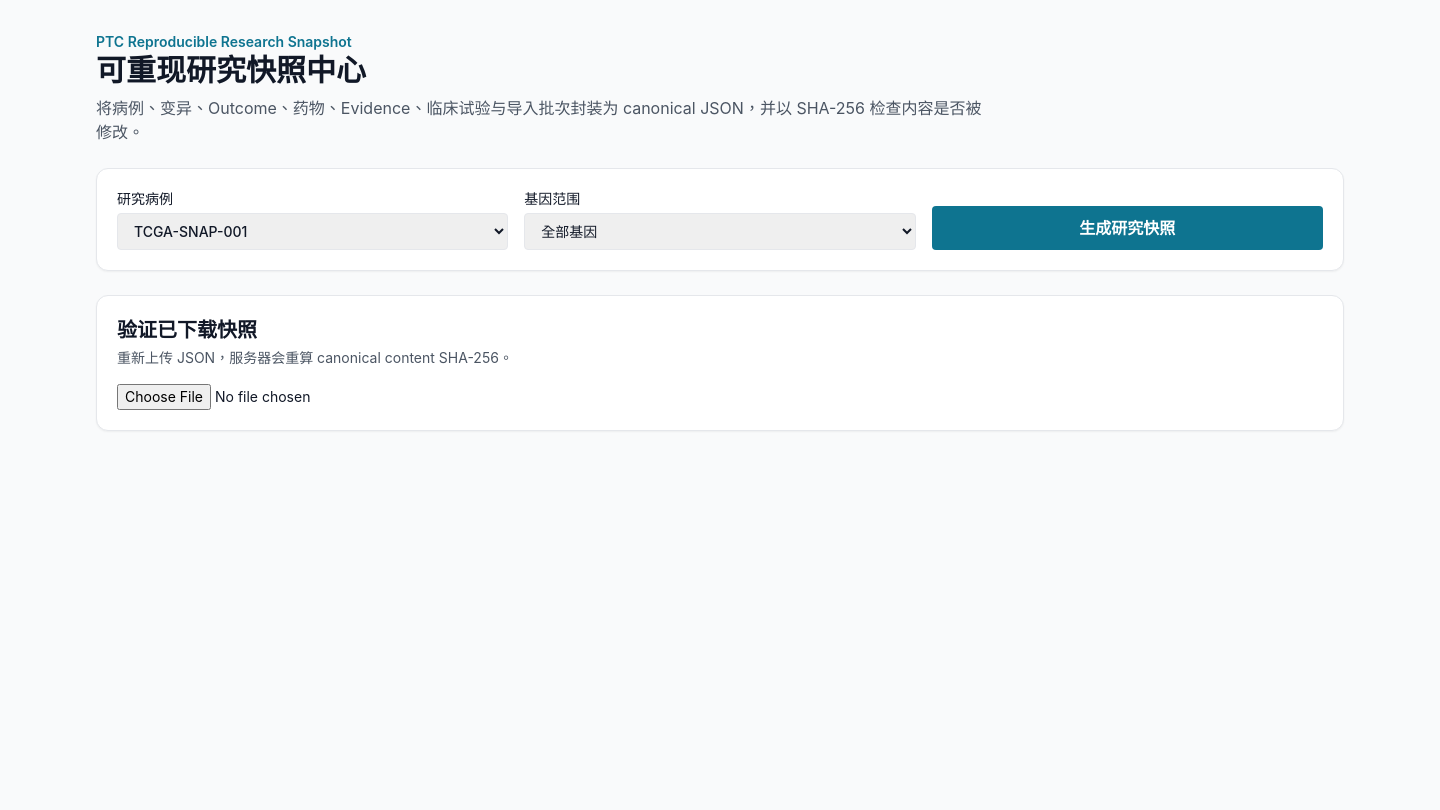
Test: PTCSnapshotPage › generates and displays a checksum-protected snapshot
The width and height of the screenshot is (1440, 810).
Select "BRAF" in the dropdown labelled "基因范围" at (720, 232), box [524,213,916,250]
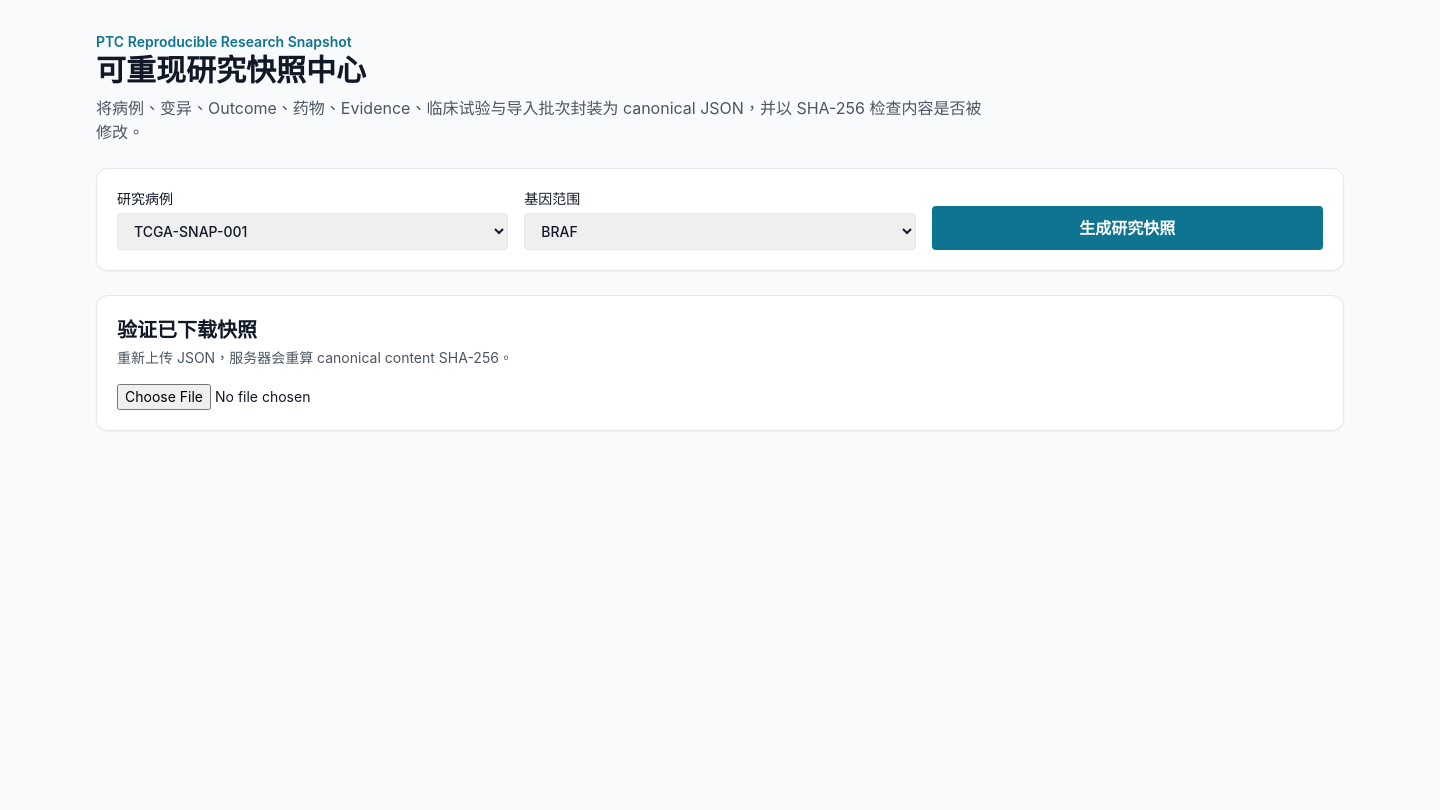
Click the button "生成研究快照" at (1127, 228), box [932,206,1323,250]
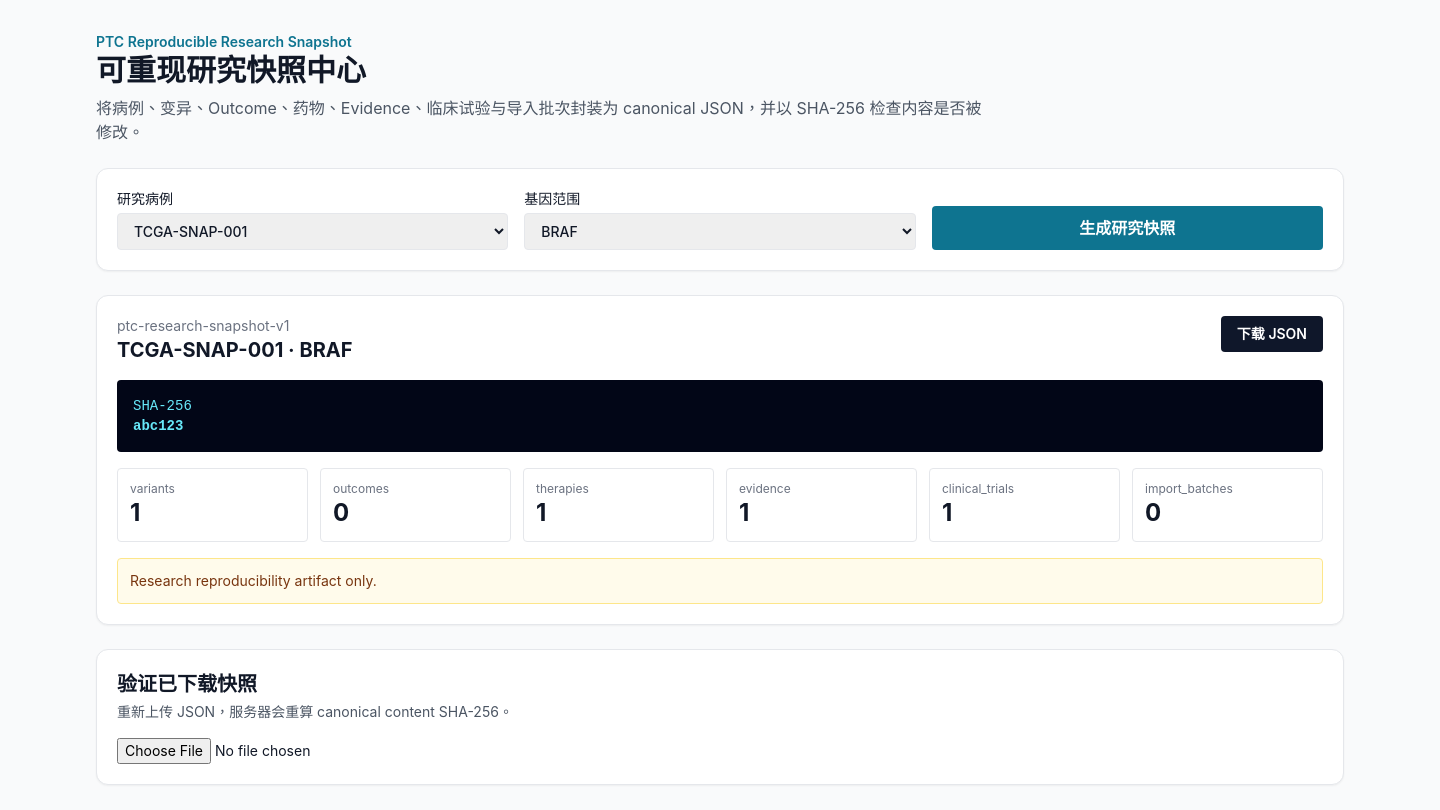
Expected: the text "abc123" is shown, [133,418,183,434]
Expected: the text "Research reproducibility artifact only." is shown, [117,558,1323,604]
